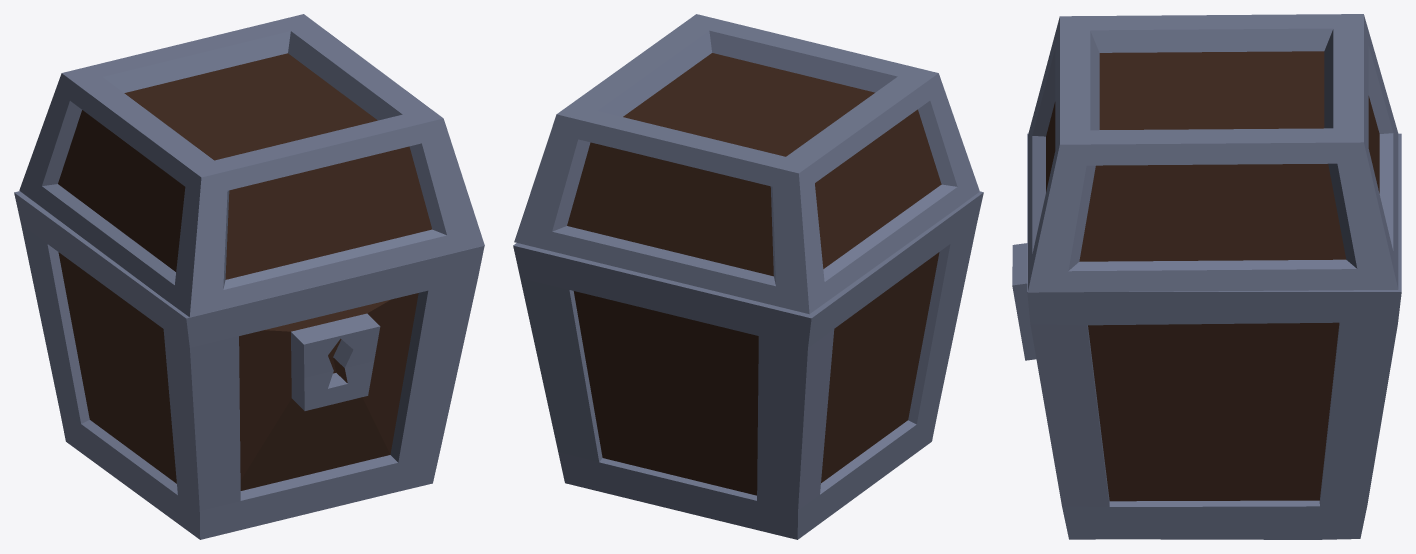
Rendered from Cofre.fbx.
The picture shows the model from 3 angles, left to right: view 1: azimuth 30°, elevation 25°; view 2: azimuth 150°, elevation 25°; view 3: azimuth 270°, elevation 25°; orthographic projection. The views are drawn at different scales.
Parts seen in each view (by area): view 1: Cofre Tapa, Cofre Caja; view 2: Cofre Caja, Cofre Tapa; view 3: Cofre Tapa, Cofre Caja.
Part boxes in pixels (bbox=[...]): Cofre Tapa: bbox=[19, 14, 484, 317]; Cofre Caja: bbox=[14, 191, 484, 539]; Cofre Caja: bbox=[513, 191, 983, 539]; Cofre Tapa: bbox=[514, 14, 979, 314]; Cofre Tapa: bbox=[1027, 14, 1398, 292]; Cofre Caja: bbox=[1012, 133, 1401, 539].
Size of the model in its own units: 257 by 267 by 303.
